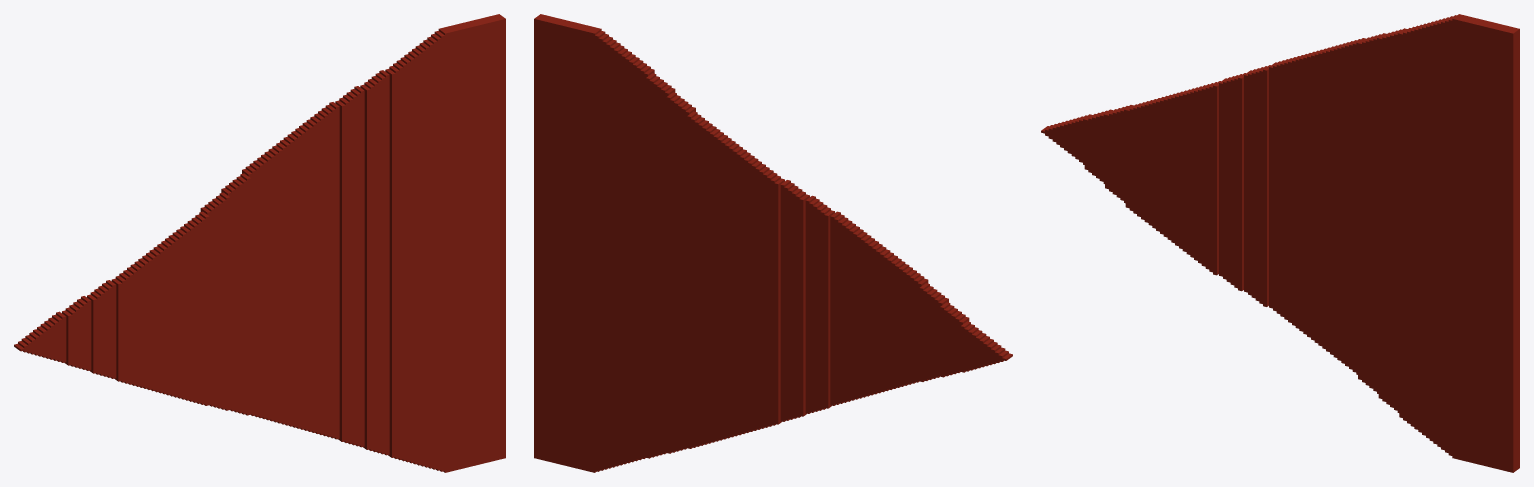
Rendered from flag_full4-0.obj.
The picture shows the model from 3 angles, left to right: view 1: azimuth 30°, elevation 25°; view 2: azimuth 150°, elevation 25°; view 3: azimuth 330°, elevation 25°; orthographic projection.
Size of the model in its own units: 25.2 by 22.1 by 1.2.
Materials: 1 (1 with a texture image).
